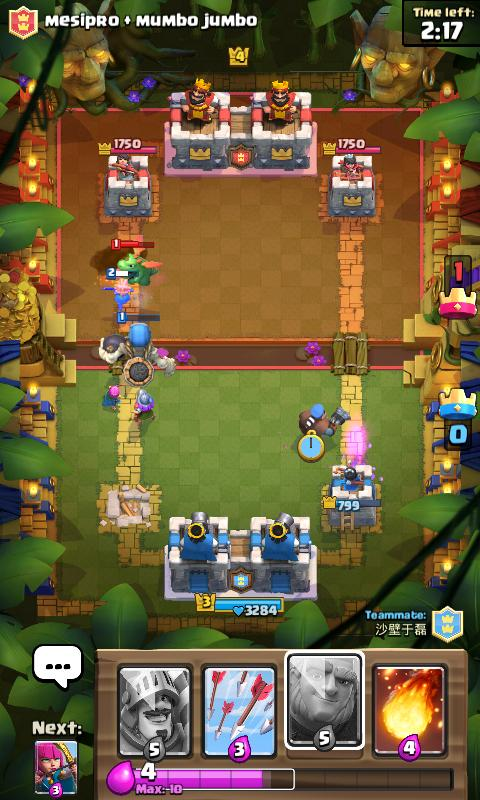ally_archer: (100, 381, 124, 412)
ally_giant_skeleton: (97, 310, 175, 385)
ally_hunter: (297, 402, 350, 439)
ally_musketeer: (132, 387, 156, 426)
ally_valkyrie: (100, 267, 133, 310)
enemy_baby_dragon: (109, 232, 161, 285)
